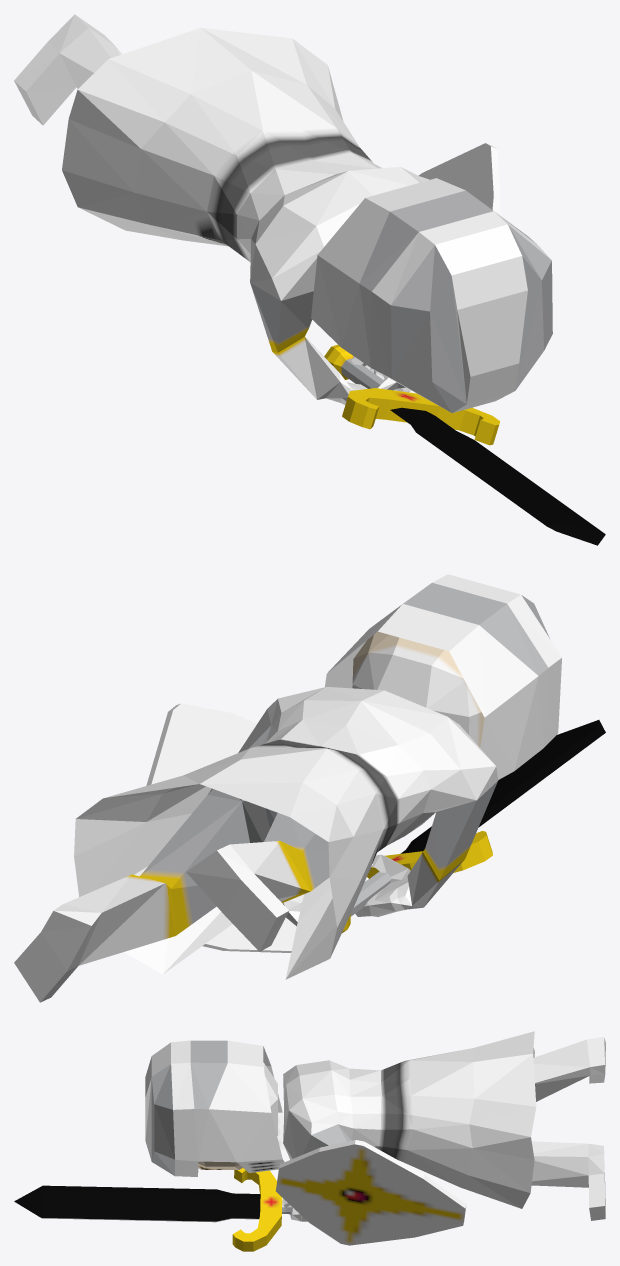
Rendered from knight_special.obj.
3 views of the same model, one above another, from view 1: azimuth 30°, elevation 25°; view 2: azimuth 150°, elevation 25°; view 3: azimuth 270°, elevation 25° (orthographic). The views are drawn at different scales.
Visible parts, largest first — view 1: knight; view 2: knight; view 3: knight.
Part boxes in pixels (left/top/right/bottom): knight: left=14, top=14, right=605, bottom=545; knight: left=14, top=574, right=605, bottom=1002; knight: left=14, top=1031, right=605, bottom=1251.
Size of the model in its own units: 4.28 by 3.83 by 11.22.
